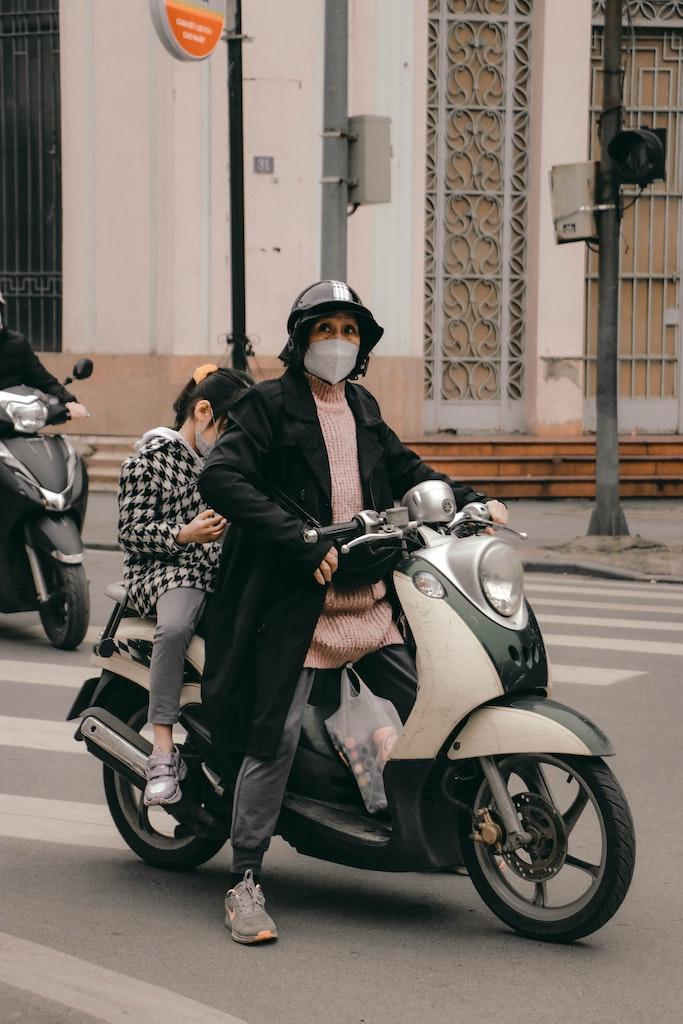helmet: (277, 278, 384, 387)
